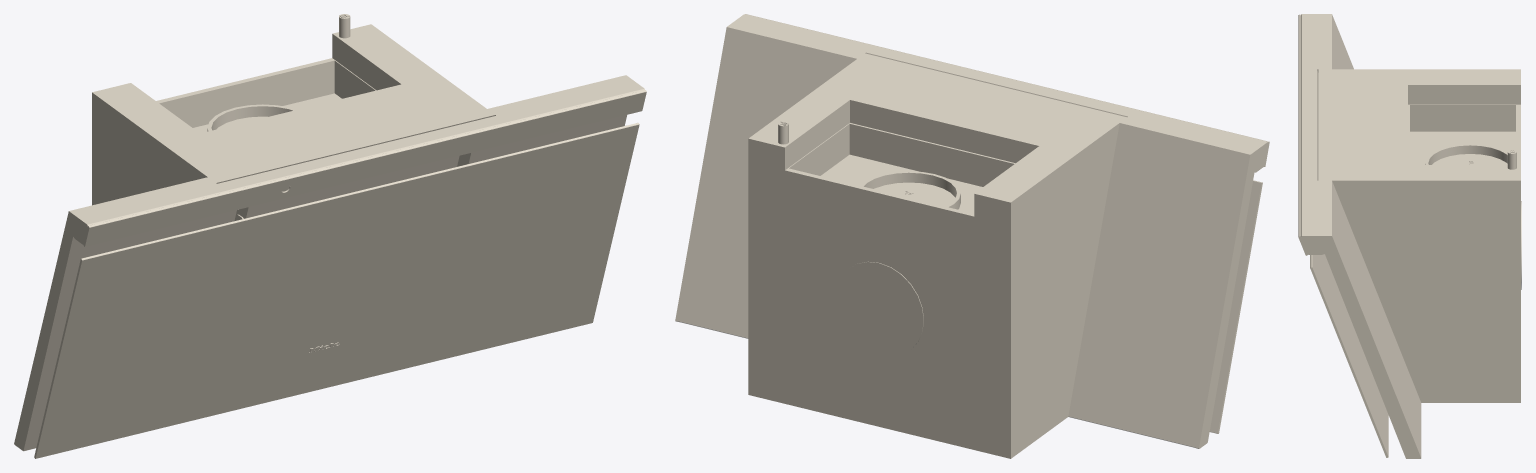
Rendered from DAH_4980_Sienna.glb.
The picture shows the model from 3 angles, left to right: view 1: azimuth 30°, elevation 25°; view 2: azimuth 150°, elevation 25°; view 3: azimuth 270°, elevation 25°; orthographic projection. The views are drawn at different scales.
Parts seen in each view (by area): view 1: 12782200_NER_DAH4980_PEBE 28H4980E_NER_12782200_DAH4980_846c; view 2: 12782200_NER_DAH4980_PEBE 28H4980E_NER_12782200_DAH4980_846c; view 3: 12782200_NER_DAH4980_PEBE 28H4980E_NER_12782200_DAH4980_846c.
Boxes of the visible parts, x1=… form: 12782200_NER_DAH4980_PEBE 28H4980E_NER_12782200_DAH4980_846c: x1=14, y1=14, x2=646, y2=458; 12782200_NER_DAH4980_PEBE 28H4980E_NER_12782200_DAH4980_846c: x1=675, y1=14, x2=1269, y2=458; 12782200_NER_DAH4980_PEBE 28H4980E_NER_12782200_DAH4980_846c: x1=1298, y1=14, x2=1521, y2=458.
Size of the model in its own units: 0.898 by 0.452 by 0.382.
